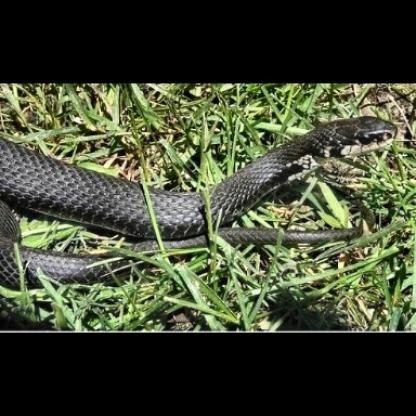Snake: (0, 117, 398, 243)
